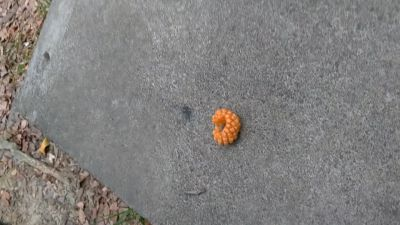eggs: (210, 106, 241, 146)
